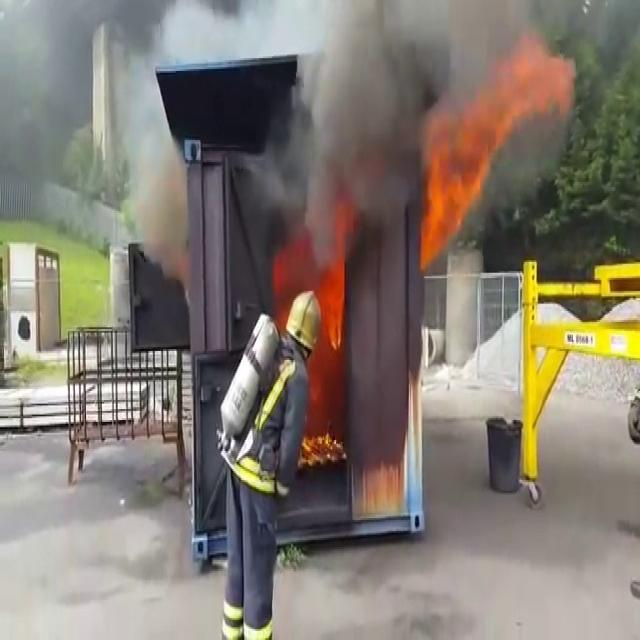Fire: (306, 225, 352, 458), (424, 135, 478, 244)
Smoke: (244, 8, 521, 104), (302, 120, 399, 218)
